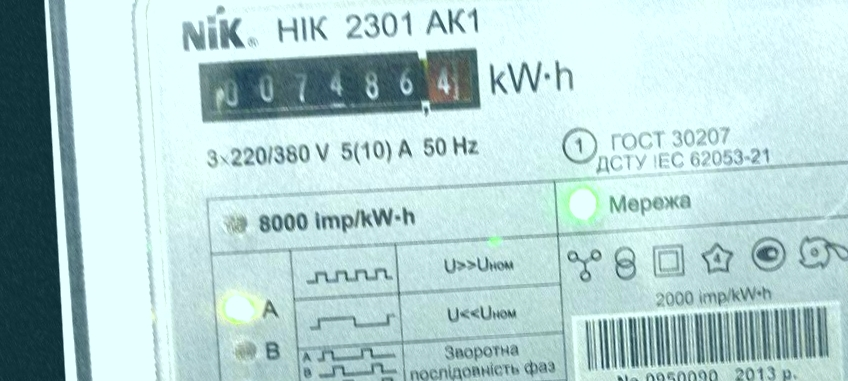0: (219, 73, 241, 108), (256, 69, 276, 103)
4: (325, 62, 345, 98), (433, 61, 452, 96)
6: (396, 63, 417, 96)
7: (288, 68, 313, 102)
8: (362, 66, 381, 102)
screen: (188, 34, 490, 135)
